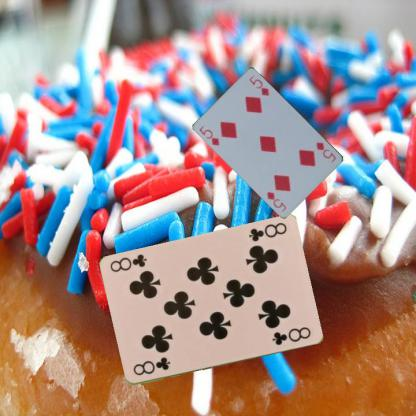5d: (197, 123, 221, 147), (314, 139, 337, 164)
8c: (245, 220, 288, 243), (130, 354, 172, 377)
